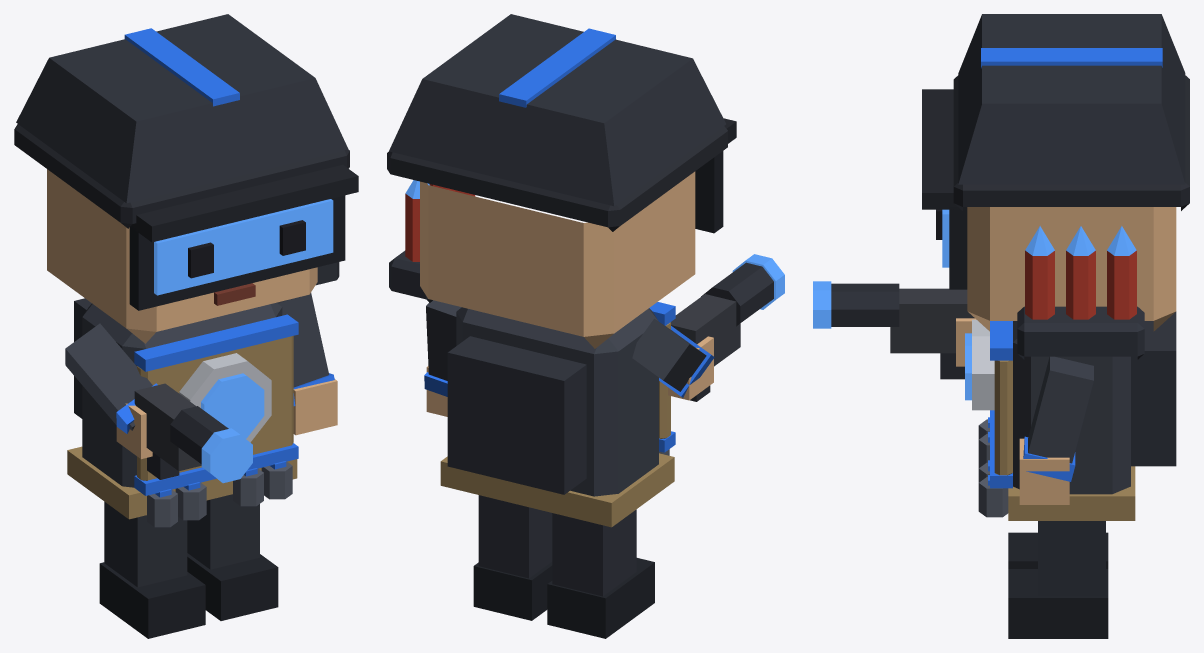
The model's file is blinder_super_rare.glb.
The picture shows the model from 3 angles, left to right: view 1: azimuth 30°, elevation 25°; view 2: azimuth 150°, elevation 25°; view 3: azimuth 270°, elevation 25°; orthographic projection. The views are drawn at different scales.
Parts seen in each view (by area): view 1: blinder_super_rare_mesh; view 2: blinder_super_rare_mesh; view 3: blinder_super_rare_mesh.
Part boxes in pixels (x1,y1,x2,y2): blinder_super_rare_mesh: [14, 14, 358, 638]; blinder_super_rare_mesh: [387, 14, 784, 638]; blinder_super_rare_mesh: [813, 14, 1189, 638].
Size of the model in its own units: 0.6524 by 1.3 by 0.8052.
2 materials, 2 textured.
